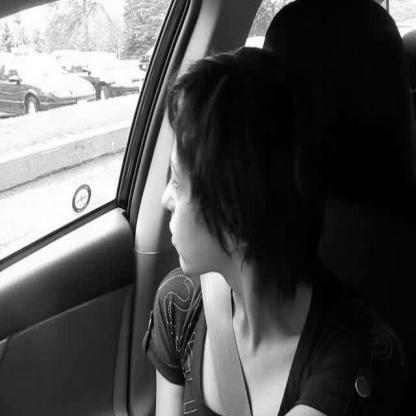seatbelt: (118, 36, 321, 416)
